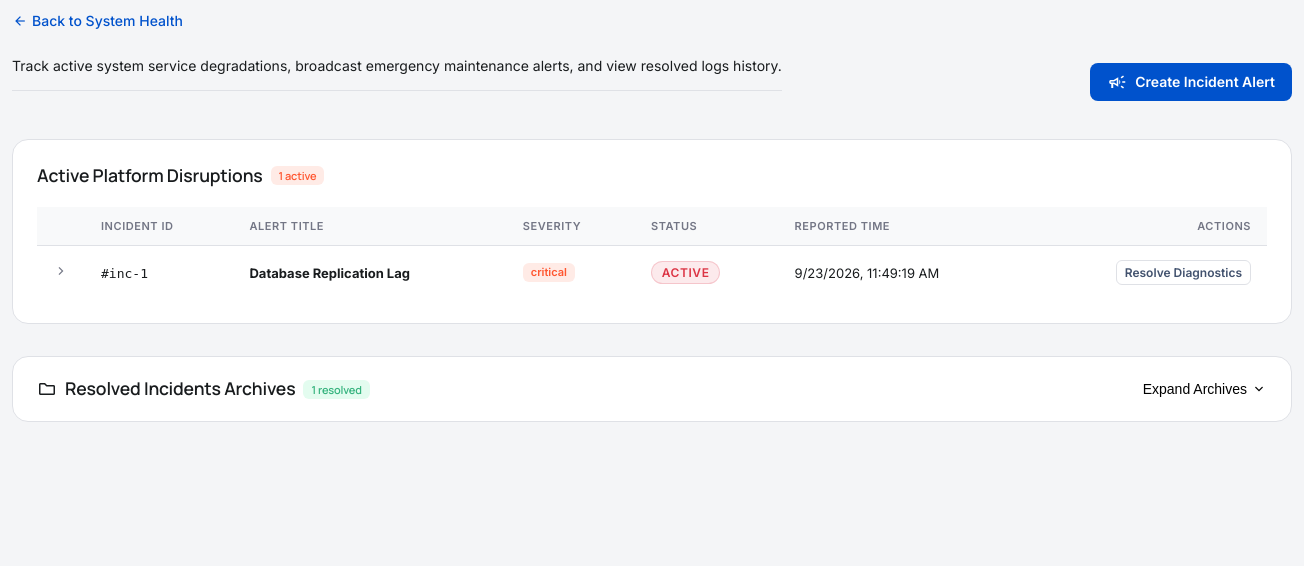
Test case: IncidentsPage › renders incidents log and classifies active vs resolved incidents
Expected: the text "Database Replication Lag" is shown, [250,265,410,281]
Expected: the text "Active Platform Disruptions" is shown, [37,164,262,187]
Note: Resolved incident is in collapsed archives initially, click to expand it
Click the button "Resolved Incidents Archives 1 resolved Expand Archives". click: (180, 388)
box: [13,357,1291,421]
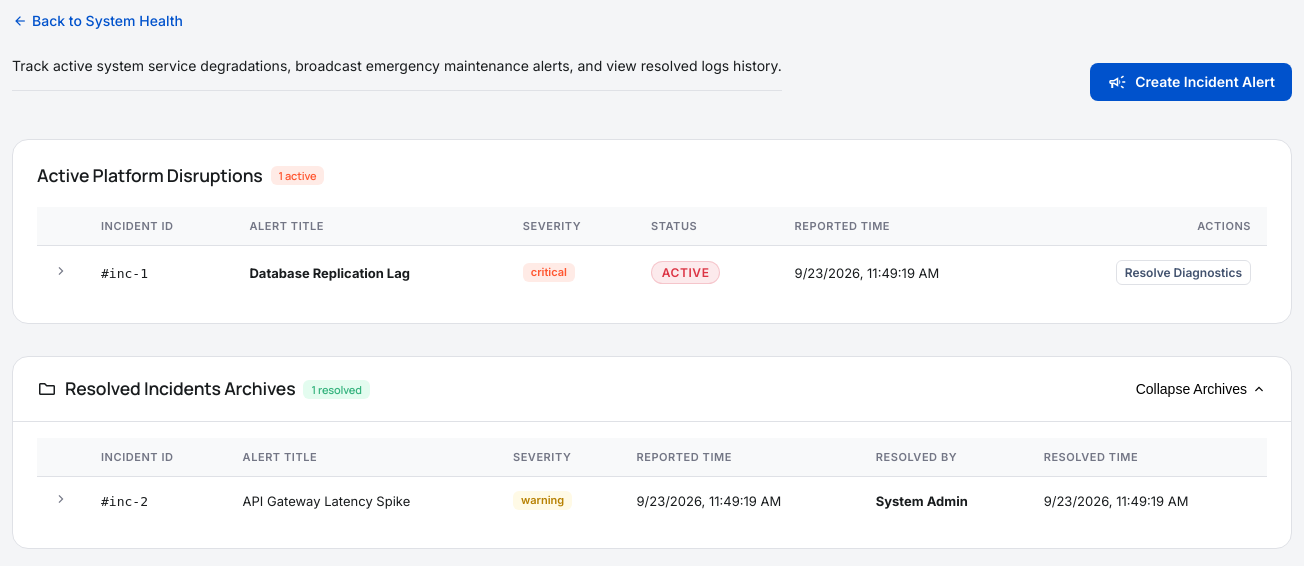
Expected: the text "API Gateway Latency Spike" is shown, [227,476,497,524]
Expected: the text "#inc-2" is shown, [101,494,148,508]
